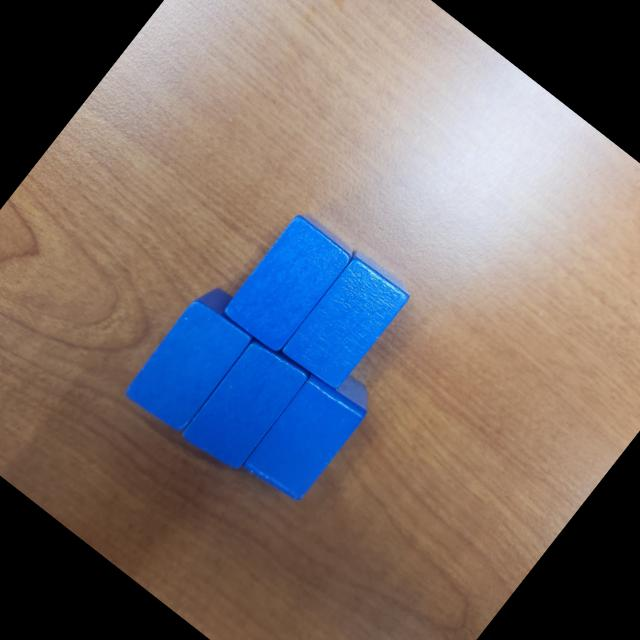blue: (118, 278, 268, 442), (238, 354, 382, 511), (275, 245, 415, 396), (217, 208, 357, 358), (175, 332, 312, 478)
